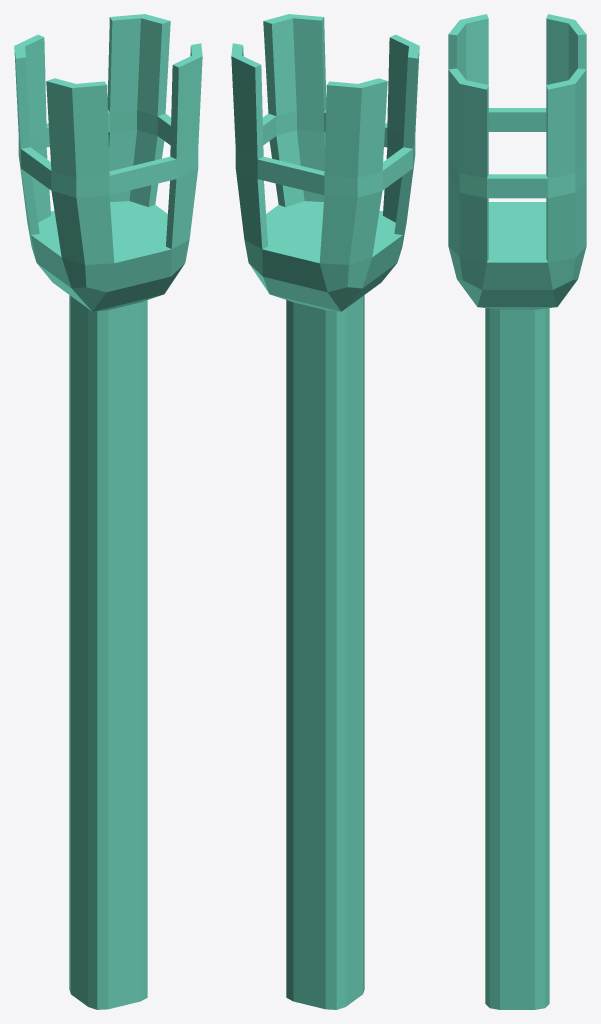
Rendered from Tocha.fbx.
3 views of the same model, side by side, from view 1: azimuth 30°, elevation 25°; view 2: azimuth 150°, elevation 25°; view 3: azimuth 270°, elevation 25° (orthographic).
Visible parts, largest first — view 1: Tocha; view 2: Tocha; view 3: Tocha.
Part boxes in pixels (x1,y1,x2,y2): Tocha: [14, 14, 202, 1009]; Tocha: [231, 14, 419, 1009]; Tocha: [448, 14, 586, 1009].
Bounding box in the file's own units: 22.39 × 130 × 17.27.
